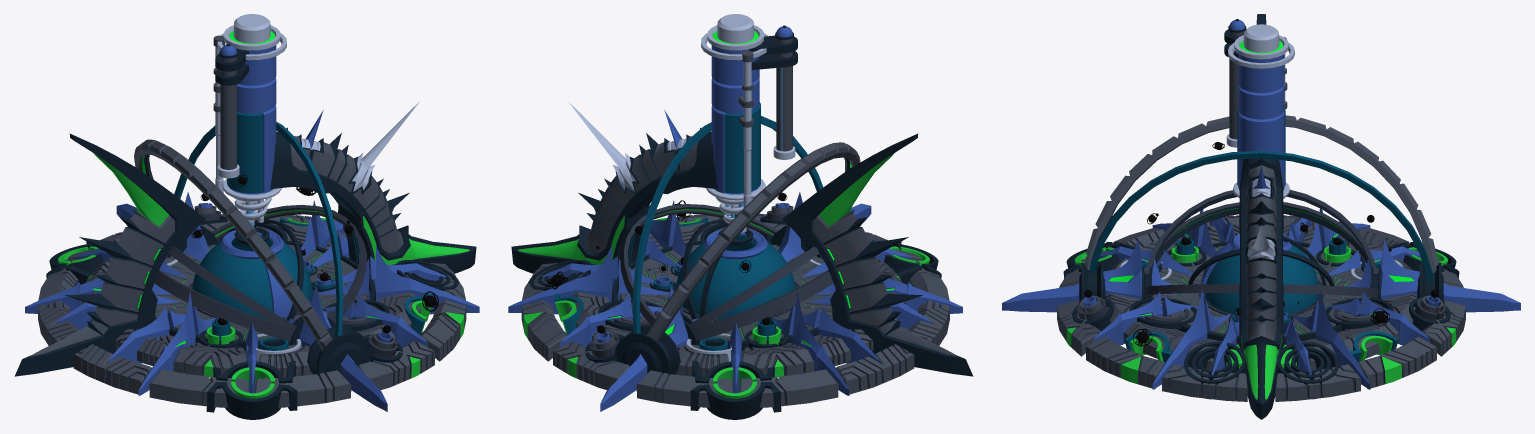
File: arena_galaxyorbit.fbx
3 renders of one model, left to right at view 1: azimuth 30°, elevation 25°; view 2: azimuth 150°, elevation 25°; view 3: azimuth 270°, elevation 25°, orthographic. The views are drawn at different scales.
Visible parts, largest first — view 1: Arch, Floor, Spikes, Arches, Top, Knodes, Gears, Glass_inner, Glass_outer, Frame, Planets, Ring; view 2: Arch, Floor, Spikes, Arches, Top, Knodes, Gears, Glass_inner, Glass_outer, Planets, Frame, Ring (+1 smaller); view 3: Floor, Spikes, Arches, Knodes, Arch, Top, Gears, Glass_outer, Glass_inner, Planets, Ring, Frame.
Part boxes in pixels (<box>): Arch: <box>14,101,476,376</box>; Floor: <box>38,214,466,407</box>; Spikes: <box>25,192,479,411</box>; Arches: <box>134,121,367,350</box>; Top: <box>213,14,286,220</box>; Knodes: <box>46,203,458,419</box>; Gears: <box>174,225,373,374</box>; Glass_inner: <box>201,242,297,286</box>; Glass_outer: <box>192,235,312,319</box>; Frame: <box>220,228,292,317</box>; Planets: <box>191,174,438,333</box>; Ring: <box>167,240,375,350</box>; Arch: <box>511,101,973,376</box>; Floor: <box>521,213,949,407</box>; Spikes: <box>508,192,962,411</box>; Arches: <box>620,116,860,342</box>; Top: <box>701,14,797,223</box>; Knodes: <box>529,203,941,419</box>; Gears: <box>614,225,813,374</box>; Glass_inner: <box>688,242,786,319</box>; Glass_outer: <box>675,234,795,318</box>; Planets: <box>547,144,794,333</box>; Frame: <box>704,228,767,258</box>; Ring: <box>612,240,820,350</box>; Floor: <box>1057,215,1465,401</box>; Spikes: <box>1002,208,1520,389</box>; Arches: <box>1084,115,1438,297</box>; Knodes: <box>1063,239,1459,399</box>; Arch: <box>1239,14,1283,419</box>; Top: <box>1224,19,1294,198</box>; Gears: <box>1079,262,1443,303</box>; Glass_outer: <box>1204,266,1318,314</box>; Glass_inner: <box>1213,245,1309,308</box>; Planets: <box>1083,142,1439,346</box>; Ring: <box>1144,242,1378,345</box>; Frame: <box>1200,233,1291,296</box>.
Size of the model in its own units: 84.35 by 53.23 by 85.71.
Materials: 3 (3 with a texture image).
